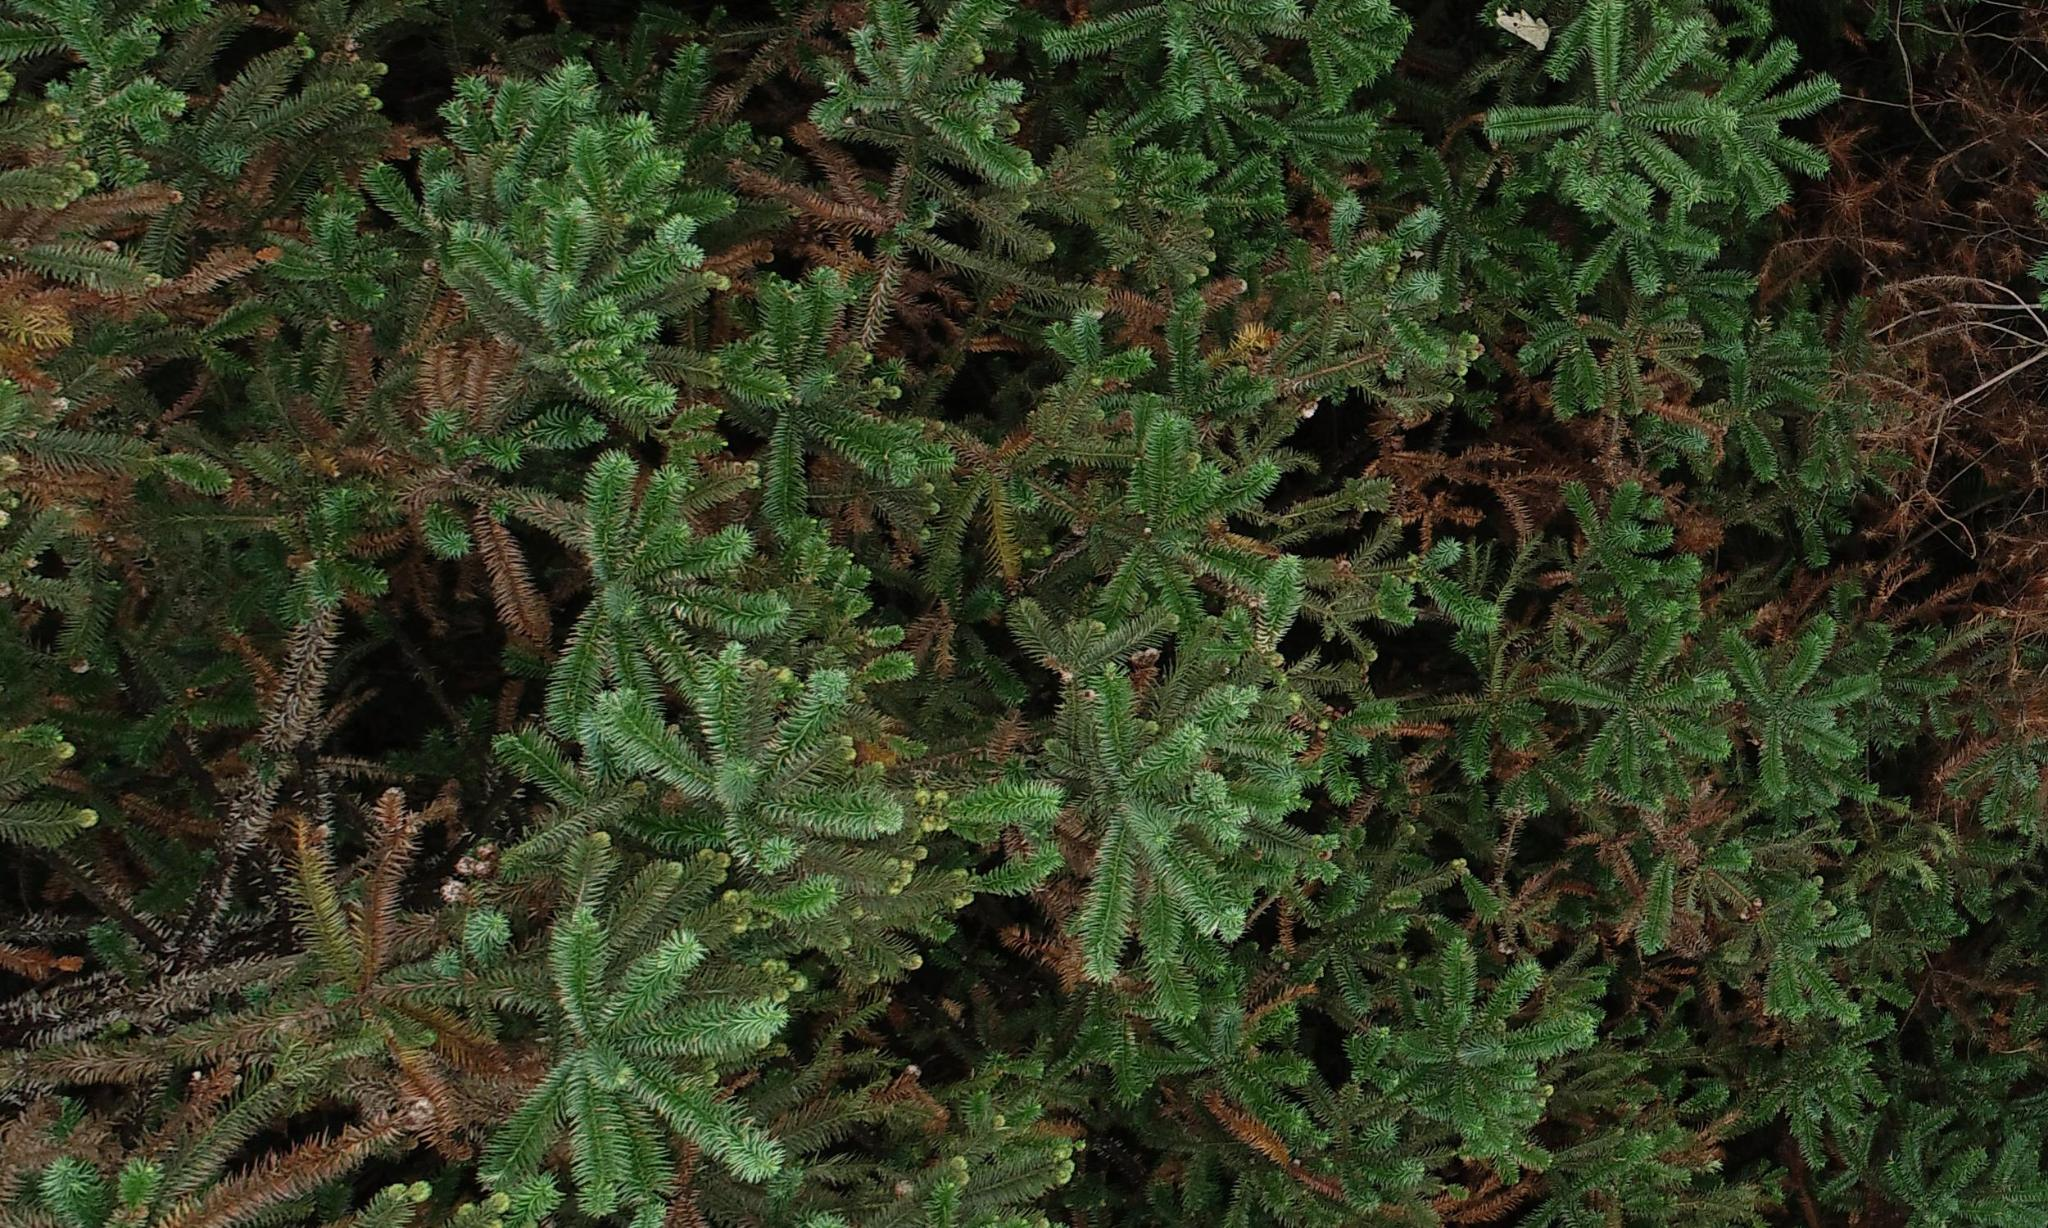light: (6, 48, 1427, 1228)
